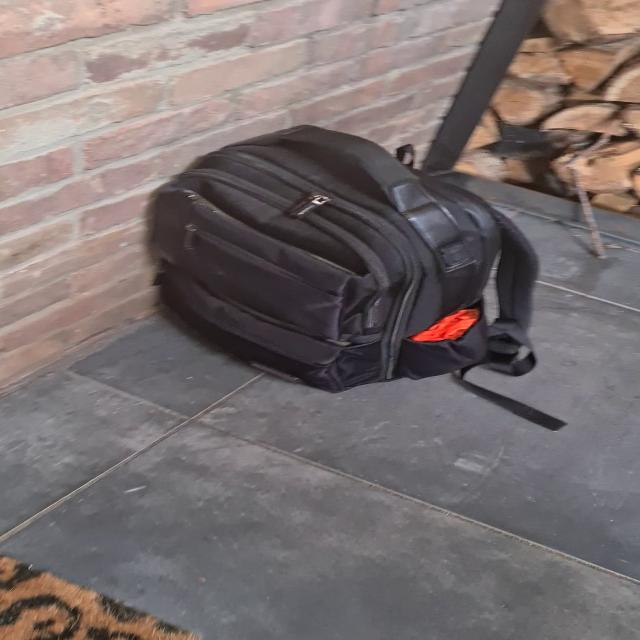backpack: (128, 112, 552, 398)
